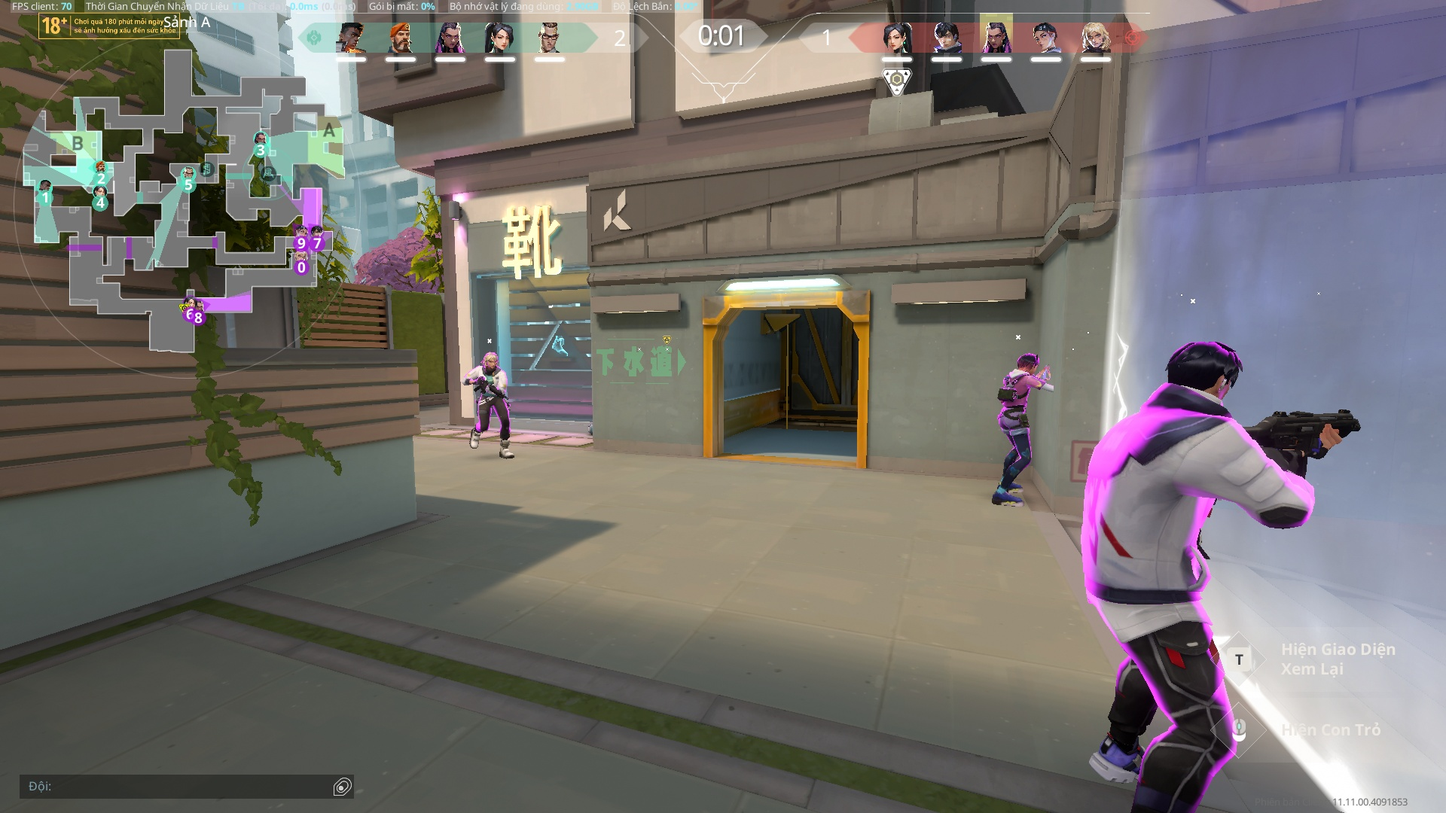body: (1088, 389, 1234, 614), (1000, 369, 1030, 429), (476, 364, 508, 403)
head: (1164, 336, 1237, 402), (1016, 345, 1039, 373), (483, 351, 499, 367)
